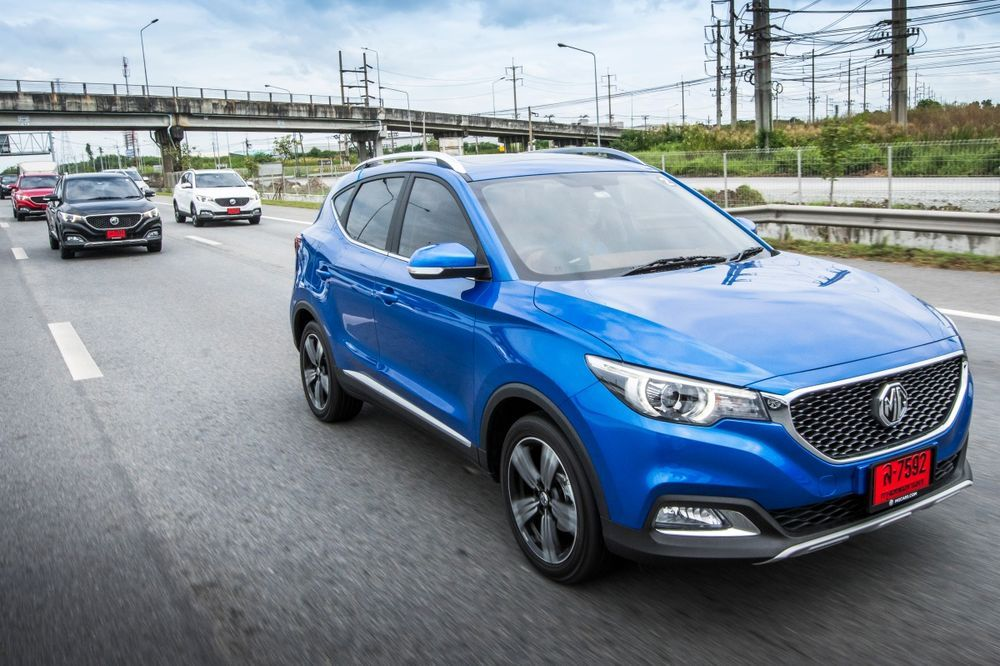pickup: (288, 142, 977, 587)
